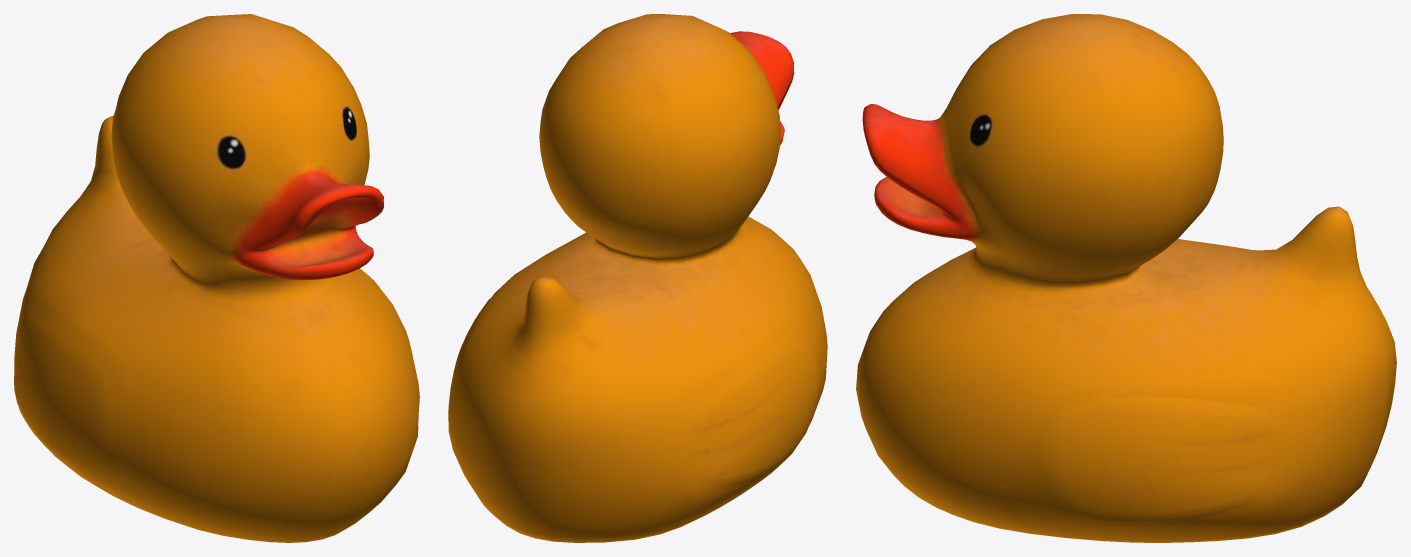
File: rubber_duck_toy.gltf
3 views of the same model, side by side, from view 1: azimuth 30°, elevation 25°; view 2: azimuth 150°, elevation 25°; view 3: azimuth 270°, elevation 25° (orthographic). The views are drawn at different scales.
Visible parts, largest first — view 1: rubber_duck_toy; view 2: rubber_duck_toy; view 3: rubber_duck_toy.
Part boxes in pixels (<box>): rubber_duck_toy: <box>14,14,419,542</box>; rubber_duck_toy: <box>448,14,827,542</box>; rubber_duck_toy: <box>856,14,1396,542</box>.
Bounding box in the file's own units: 0.2135 × 0.2855 × 0.3.
1 material, 1 textured.
